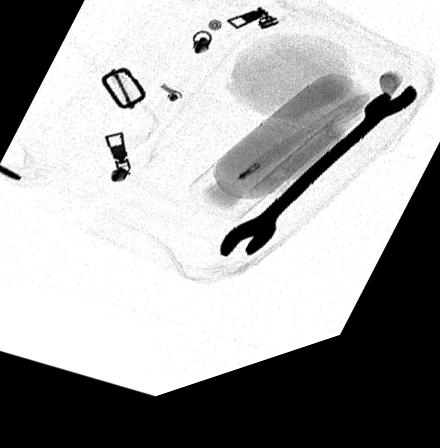Wrench: (220, 113, 418, 271)
